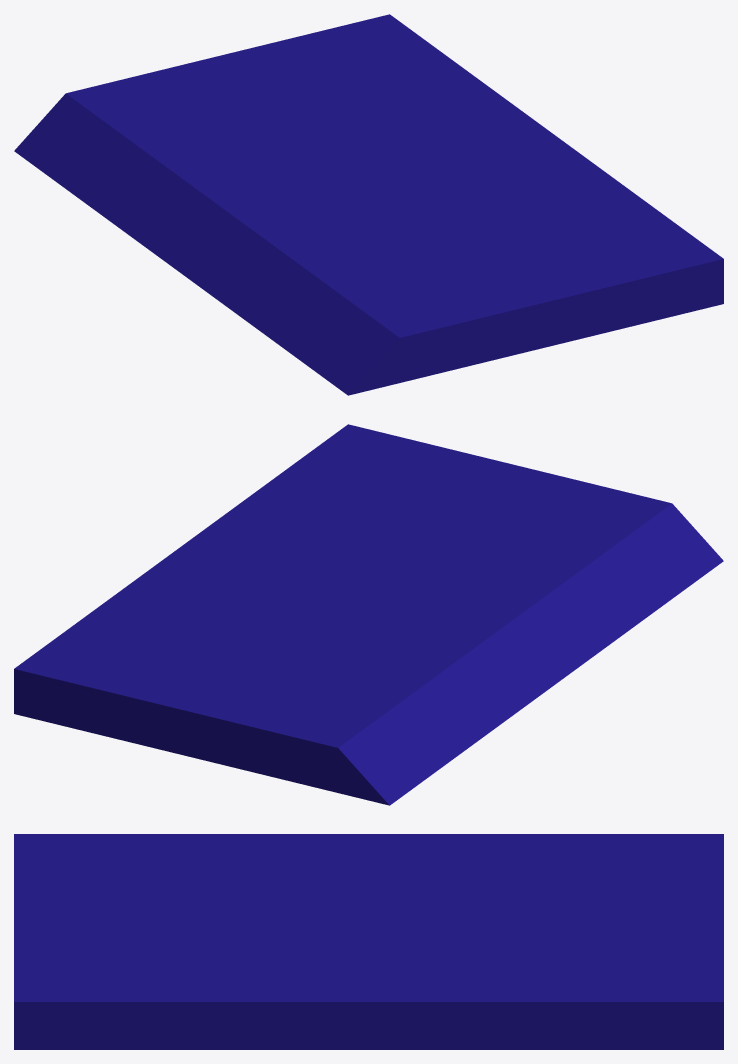
The picture shows the model from 3 angles, top to bottom: view 1: azimuth 30°, elevation 25°; view 2: azimuth 150°, elevation 25°; view 3: azimuth 270°, elevation 25°; orthographic projection. The views are drawn at different scales.
Parts seen in each view (by area): view 1: geometry_20; view 2: geometry_20; view 3: geometry_20.
Part boxes in pixels (x1=…): geometry_20: x1=14, y1=14, x2=723, y2=395; geometry_20: x1=14, y1=424, x2=723, y2=805; geometry_20: x1=14, y1=834, x2=723, y2=1049.
Size of the model in its own units: 0.026 by 0.00298 by 0.04.
